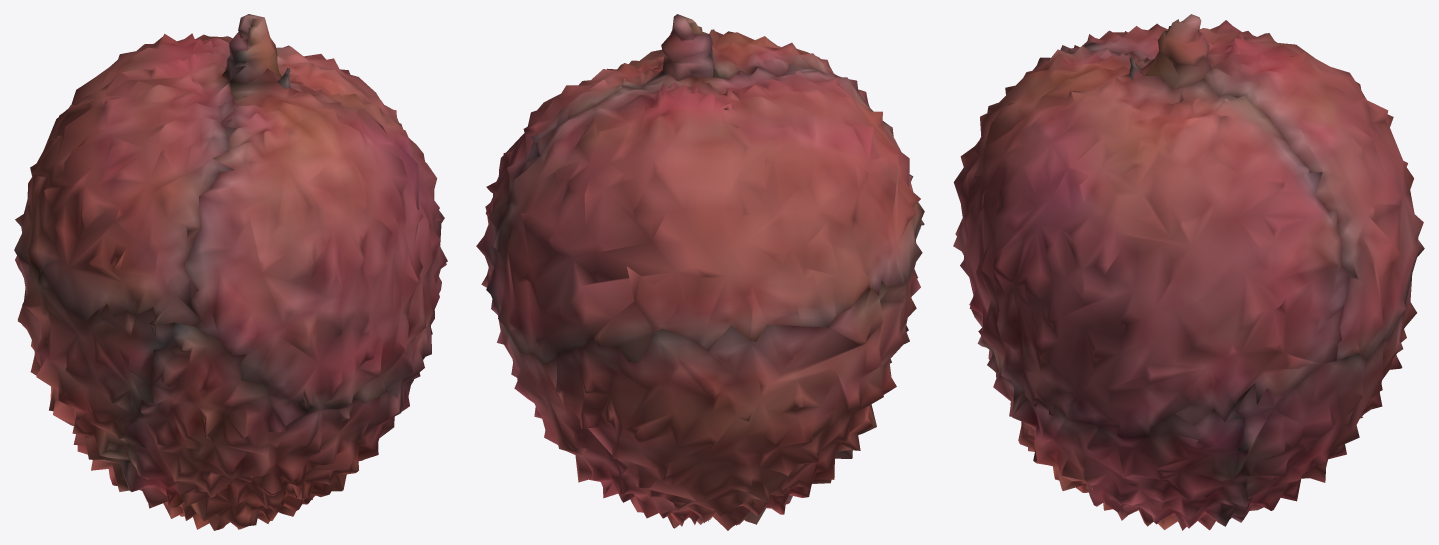
3 renders of one model, left to right at view 1: azimuth 30°, elevation 25°; view 2: azimuth 150°, elevation 25°; view 3: azimuth 270°, elevation 25°, orthographic. The views are drawn at different scales.
Visible parts, largest first — view 1: food_lychee_01; view 2: food_lychee_01; view 3: food_lychee_01.
Boxes of the visible parts, box(x1,y1,x2,y2) form: food_lychee_01: box(14, 14, 447, 530); food_lychee_01: box(476, 14, 924, 530); food_lychee_01: box(953, 14, 1424, 530).
Size of the model in its own units: 0.0409 by 0.0506 by 0.042.
Materials: 1 (1 with a texture image).
